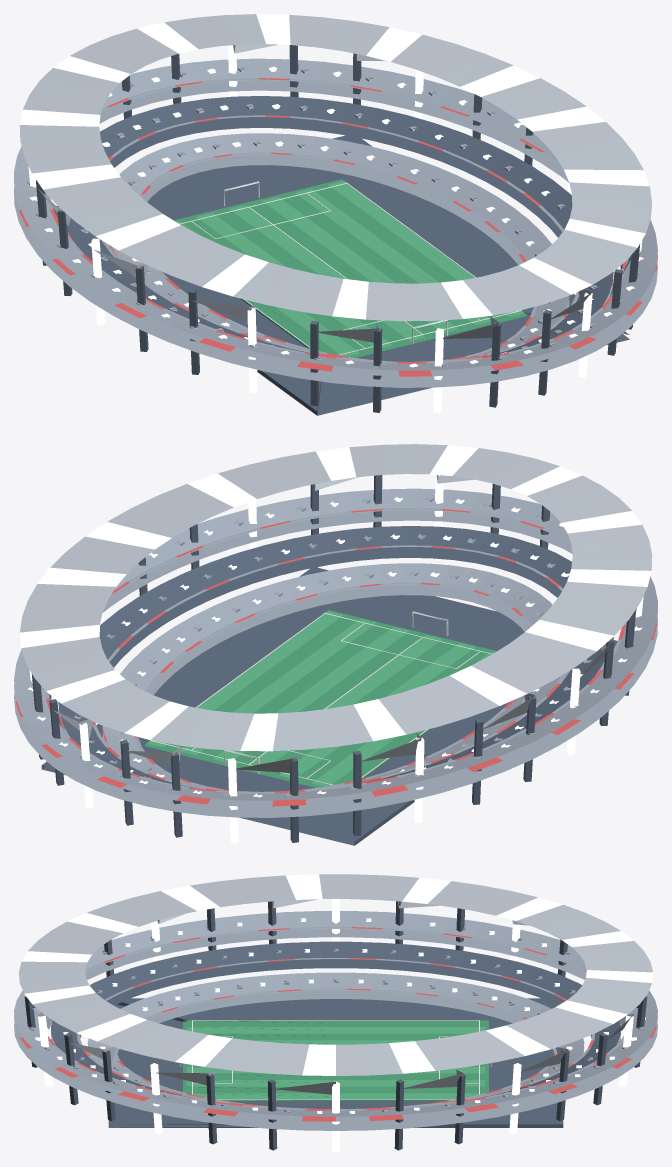
File: beira-rio.glb
The picture shows the model from 3 angles, top to bottom: view 1: azimuth 30°, elevation 25°; view 2: azimuth 150°, elevation 25°; view 3: azimuth 270°, elevation 25°; orthographic projection. The views are drawn at different scales.
Visible parts, largest first — view 1: Beira-Rio; view 2: Beira-Rio; view 3: Beira-Rio.
Part boxes in pixels (x1,y1,x2,y2): Beira-Rio: (14, 14, 657, 415); Beira-Rio: (14, 444, 657, 845); Beira-Rio: (14, 874, 657, 1152).
Bounding box in the file's own units: 62.15 × 13.1 × 82.16.
